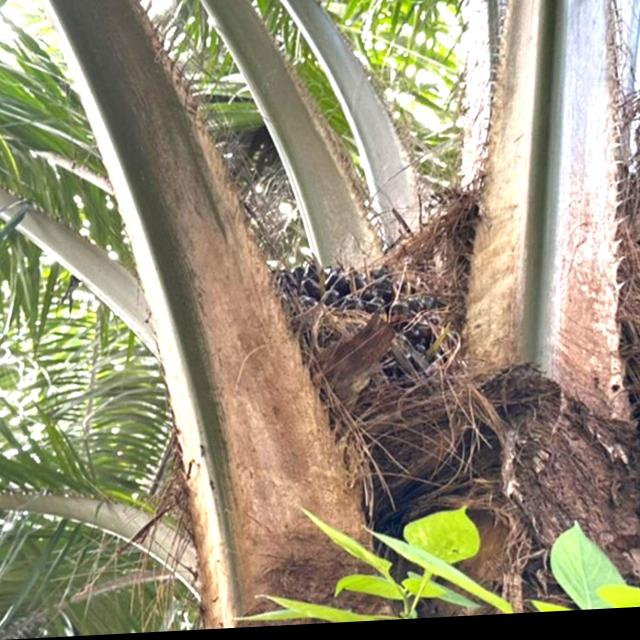almost: (254, 246, 468, 434)
